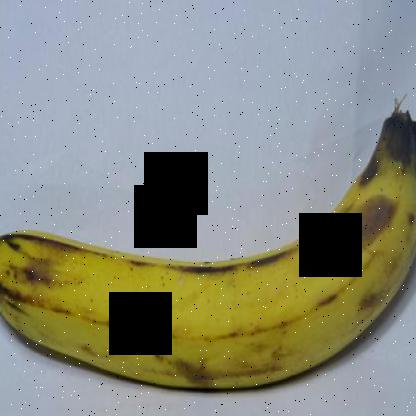ripe: (0, 96, 415, 397)
